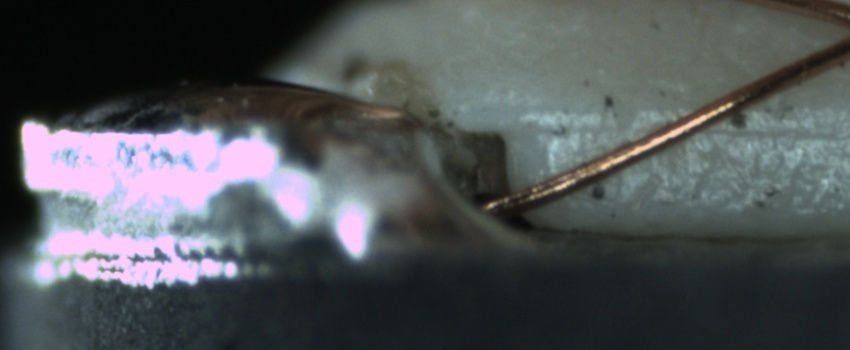CL: (832, 2, 850, 58)
DL: (531, 98, 849, 158)
